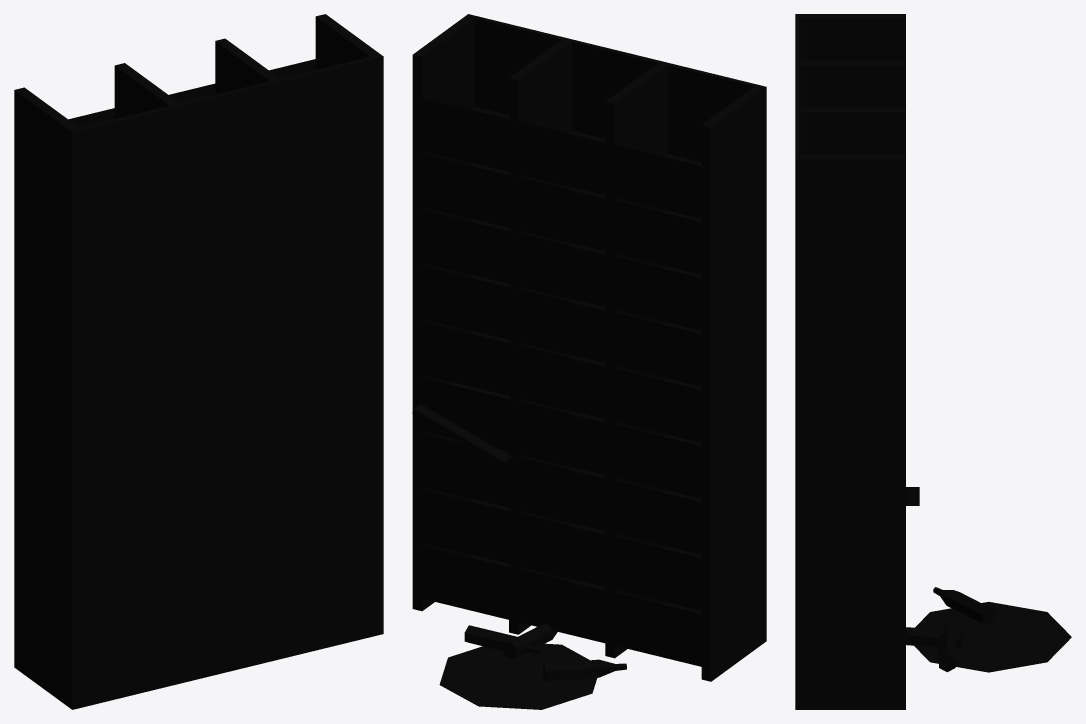
Rendered from SM_wine_rack_broken.fbx.
3 renders of one model, left to right at view 1: azimuth 30°, elevation 25°; view 2: azimuth 150°, elevation 25°; view 3: azimuth 270°, elevation 25°, orthographic. The views are drawn at different scales.
Visible parts, largest first — view 1: wine_rack_broken; view 2: wine_rack_broken; view 3: wine_rack_broken.
Boxes of the visible parts, left/top/right/bottom form: wine_rack_broken: left=14, top=14, right=383, bottom=709; wine_rack_broken: left=412, top=14, right=766, bottom=709; wine_rack_broken: left=795, top=14, right=1071, bottom=709.
Bounding box in the file's own units: 1.24 × 2.2 × 1.
